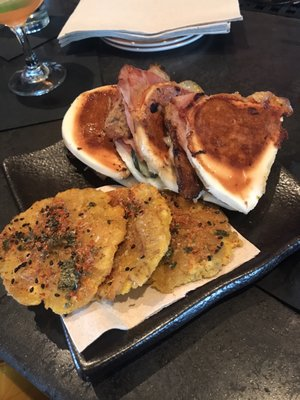soup: (109, 69, 294, 214)
